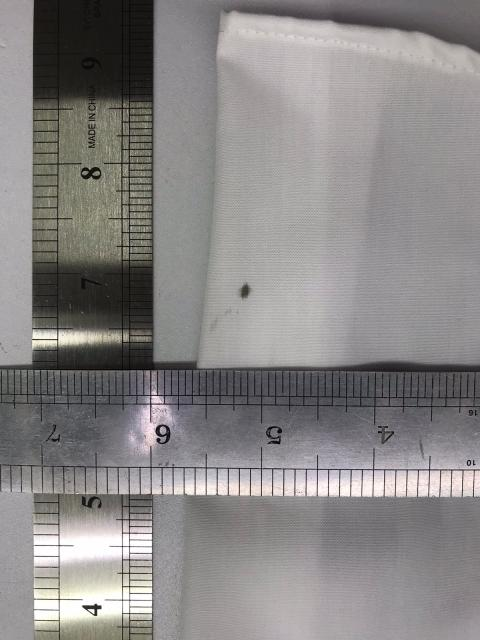Dirty_mark: (238, 277, 252, 304)
